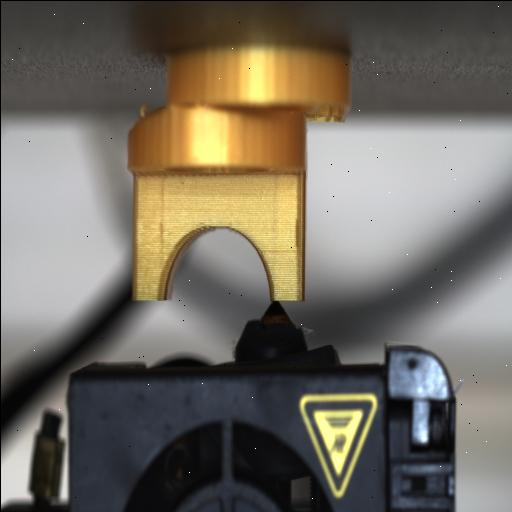layer_shift: (130, 94, 354, 126)
